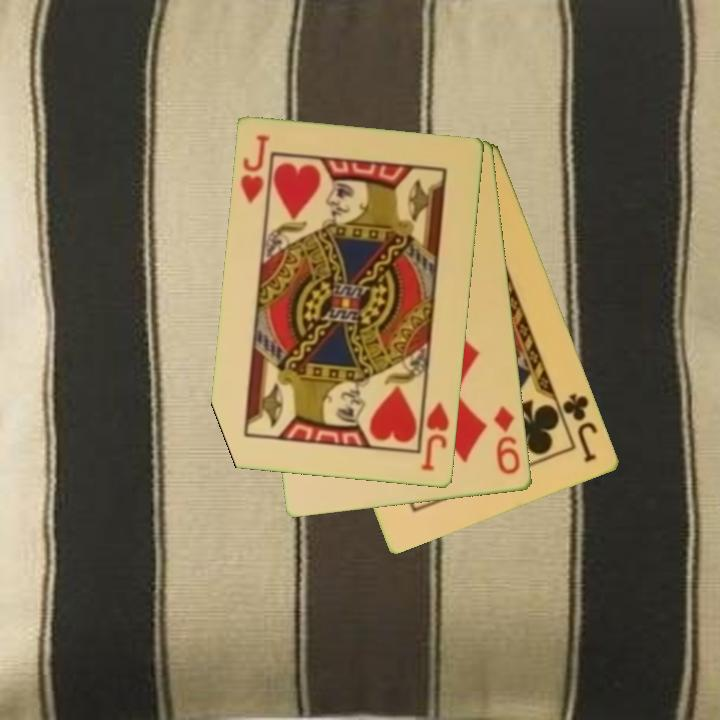9d: (491, 403, 524, 478)
Jc: (559, 390, 601, 466)
Jh: (237, 131, 273, 207), (418, 399, 452, 475)
